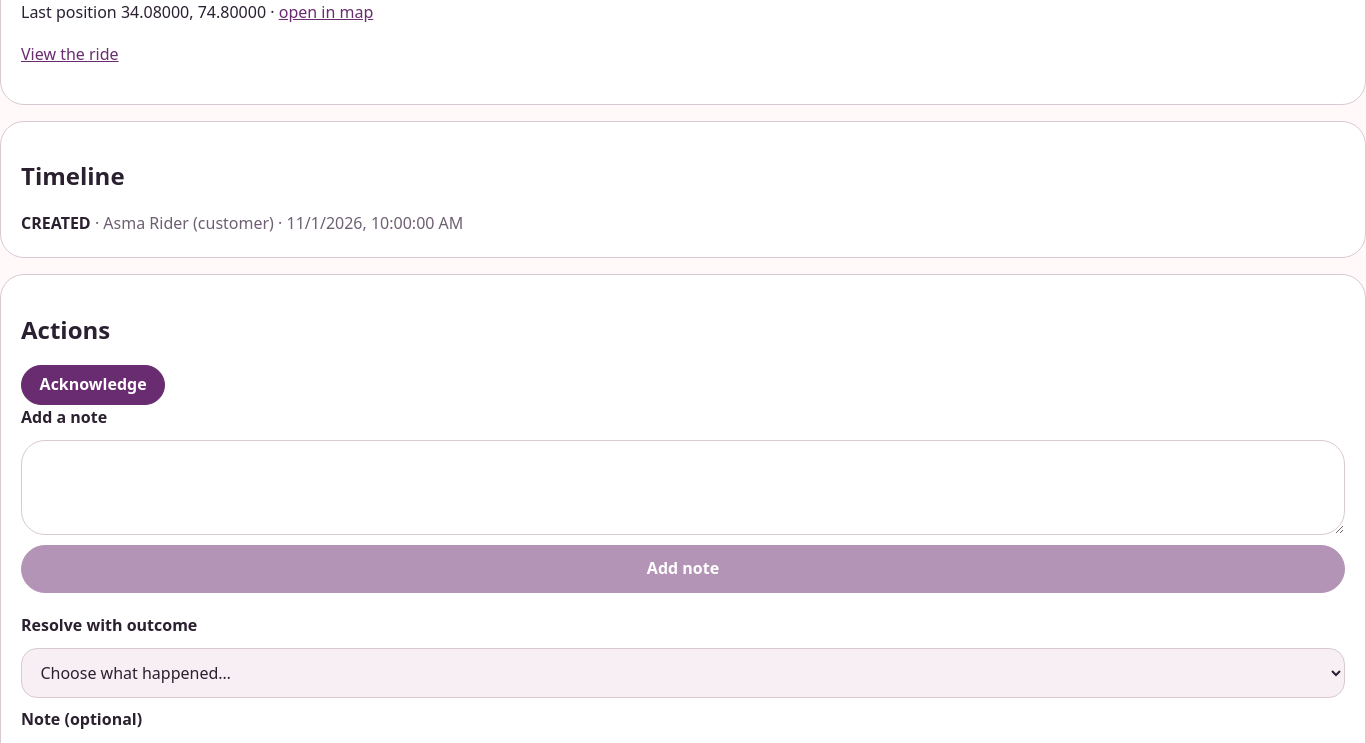
it: SafetyIncident › shows the server message when an action is refused and keeps the page
(page scrolled)
Click the button "Acknowledge" at coordinates (93, 385), box [21,365,165,405]
(page scrolled)
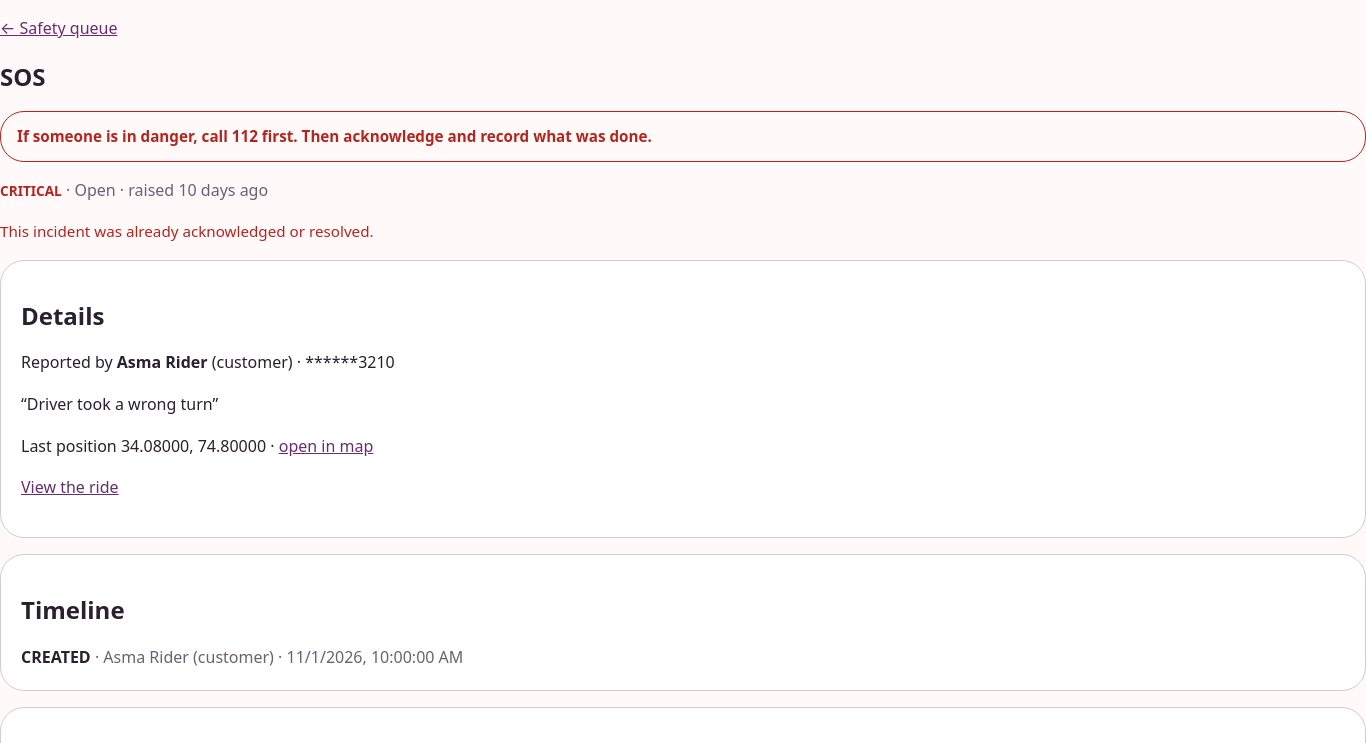
Expected: the heading "SOS" is shown, [0,60,46,92]
Result: the text "This incident was already acknowledged or resolved." is shown at [0,221,374,241]
